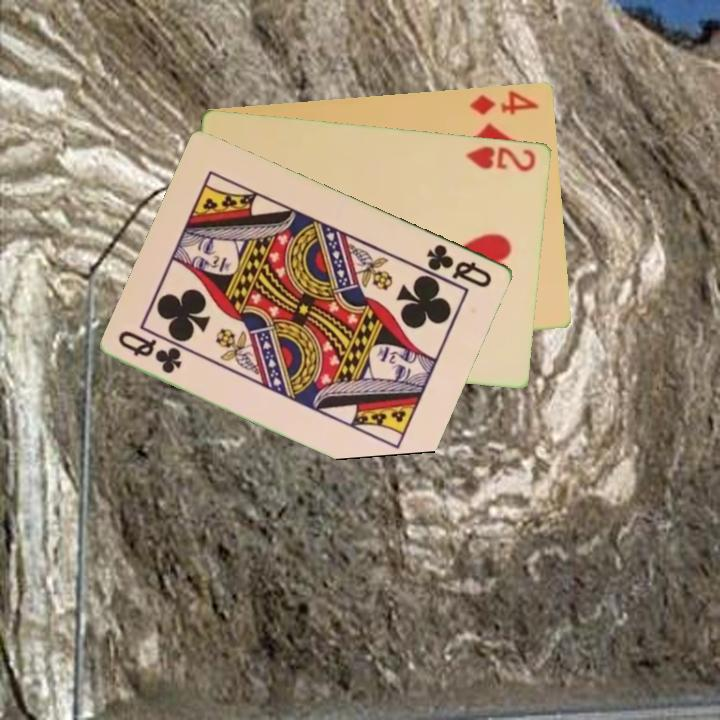2h: (462, 142, 539, 175)
4d: (467, 86, 542, 118)
Qc: (423, 240, 496, 291), (115, 326, 186, 377)
